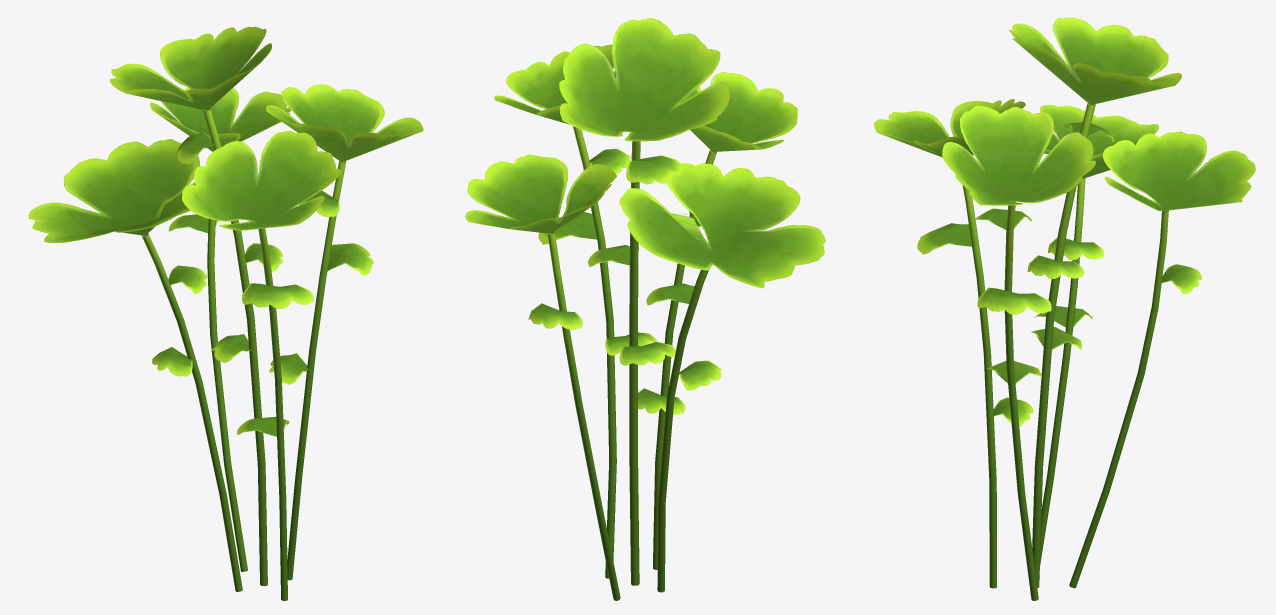
Rendered from Clover_2.gltf.
3 renders of one model, left to right at view 1: azimuth 30°, elevation 25°; view 2: azimuth 150°, elevation 25°; view 3: azimuth 270°, elevation 25°, orthographic. The views are drawn at different scales.
Visible parts, largest first — view 1: Clover_2; view 2: Clover_2; view 3: Clover_2.
Part boxes in pixels (left/top/right/bottom): Clover_2: left=28, top=26, right=423, bottom=600; Clover_2: left=465, top=18, right=825, bottom=600; Clover_2: left=874, top=17, right=1255, bottom=600.
Size of the model in its own units: 0.8511 by 1.26 by 0.8366.
Materials: 1 (1 with a texture image).
